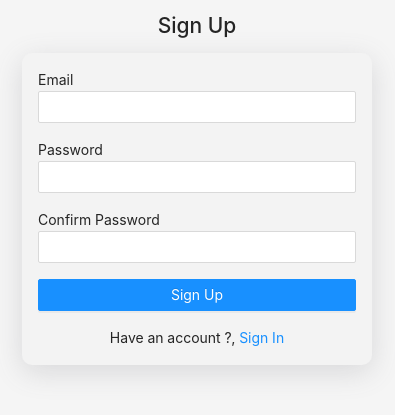
Test: Signup › Should be able to validate invalid email
In the field labelled "Email": [197, 106] box [38,90,356,122], type "test@test"
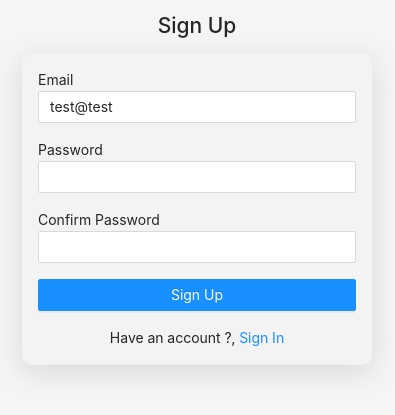
In the password field labelled "Password": [197, 176] box [38,160,356,192], type "testtest"
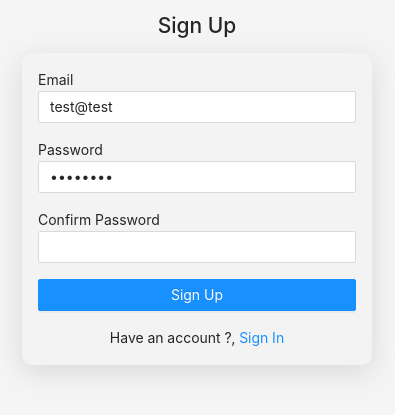
In the password field labelled "Confirm Password": [197, 246] box [38,230,356,262], type "testtest"
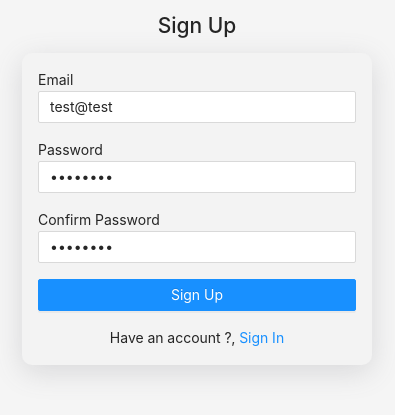
Click the button: [197, 294] box [38,278,356,310]
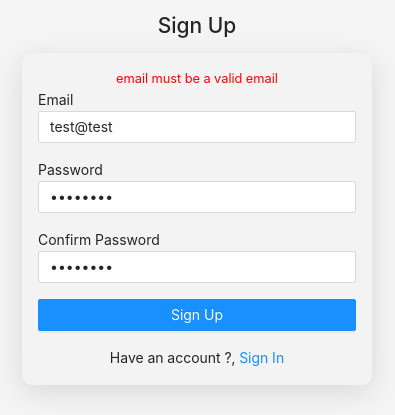
Check: the text titled "error" is shown, box [116,70,278,86]
